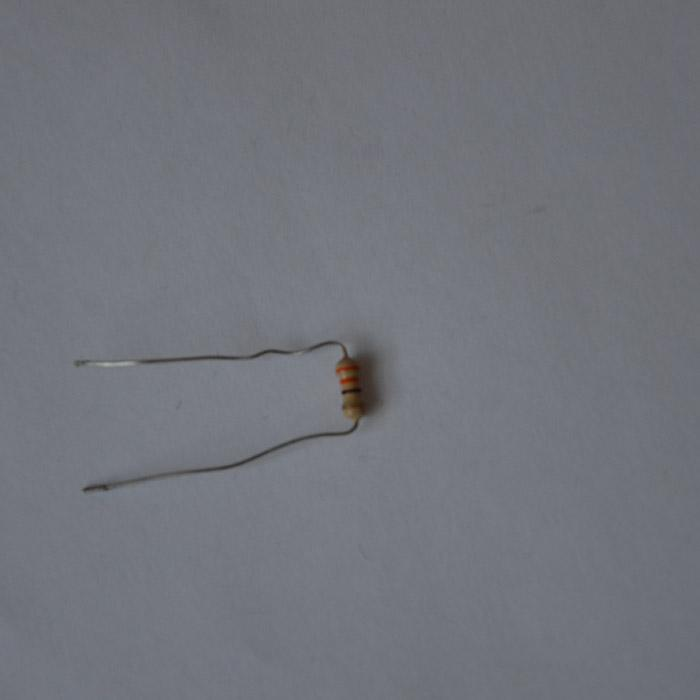resistor: (334, 354, 363, 421)
